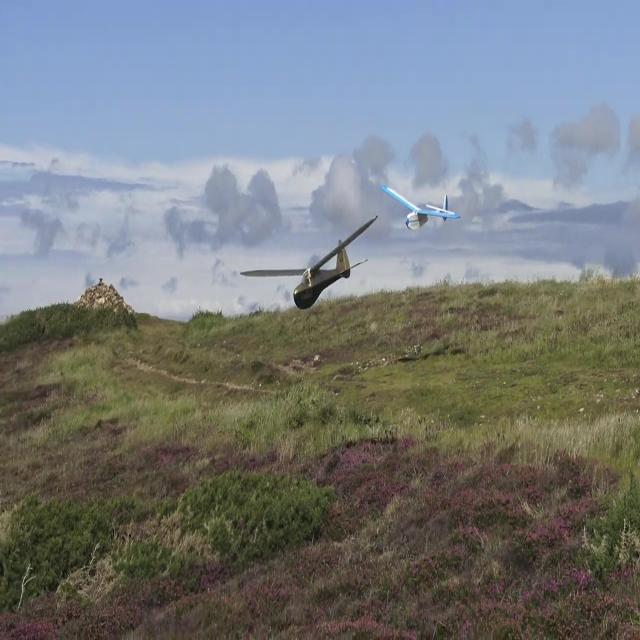iha: (243, 245, 375, 278), (411, 183, 429, 232)
